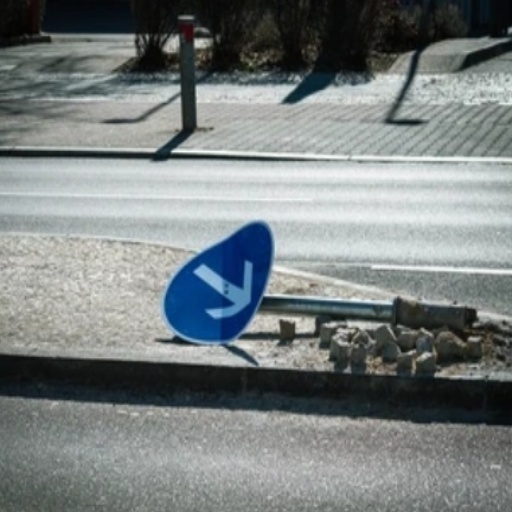Keep right: (140, 208, 284, 365)
